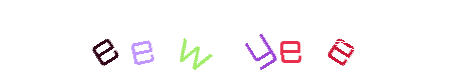E: (64, 0, 144, 80), (147, 0, 227, 80), (220, 0, 300, 80), (273, 0, 353, 80)
W: (153, 0, 233, 80)
Y: (185, 0, 265, 80)
